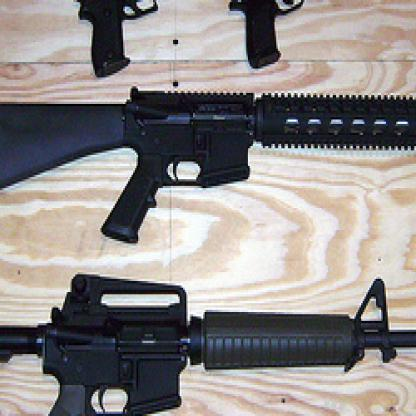gun: (64, 0, 192, 87), (223, 0, 331, 82)
